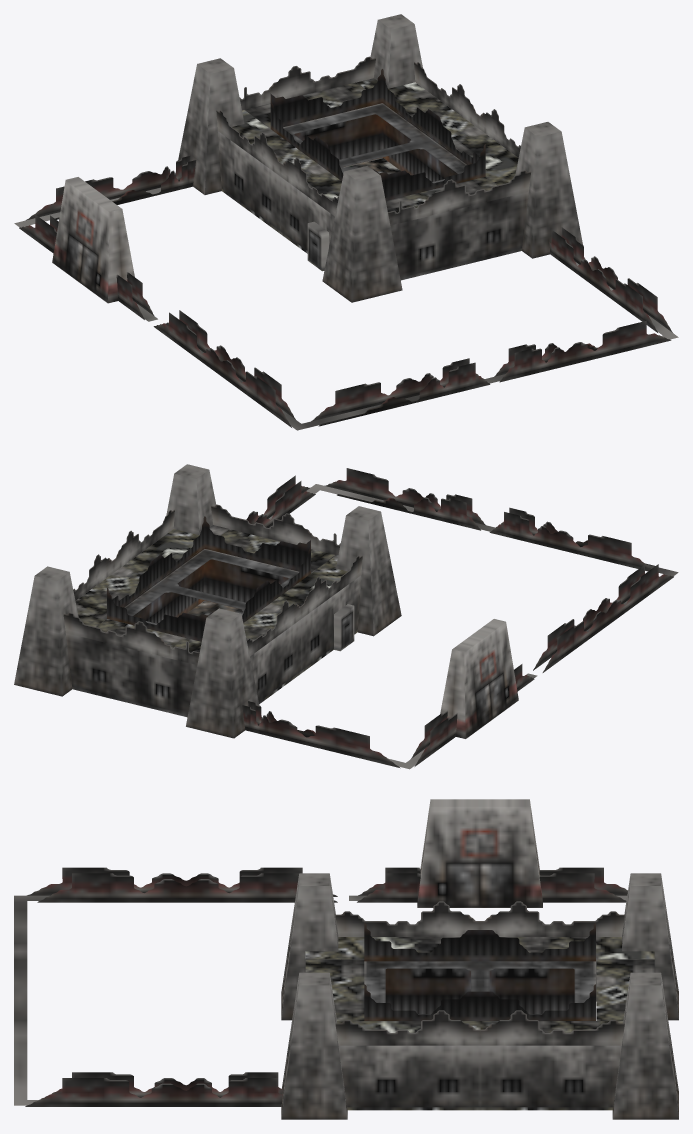
File: prison_dam.glb
3 views of the same model, one above another, from view 1: azimuth 30°, elevation 25°; view 2: azimuth 150°, elevation 25°; view 3: azimuth 270°, elevation 25° (orthographic). The views are drawn at different scales.
Parts seen in each view (by area): view 1: PrisonDamaged, prisonwall2; view 2: PrisonDamaged, prisonwall2; view 3: PrisonDamaged, prisonwall2.
Boxes of the visible parts, x1,y1,x2,y2 form: PrisonDamaged: (52,14,582,303); prisonwall2: (14,156,678,430); PrisonDamaged: (14,464,518,738); prisonwall2: (242,468,678,769); PrisonDamaged: (281,799,678,1119); prisonwall2: (14,867,627,1106).
Size of the model in its own units: 32.63 by 8.43 by 40.14.
Materials: 1 (1 with a texture image).
